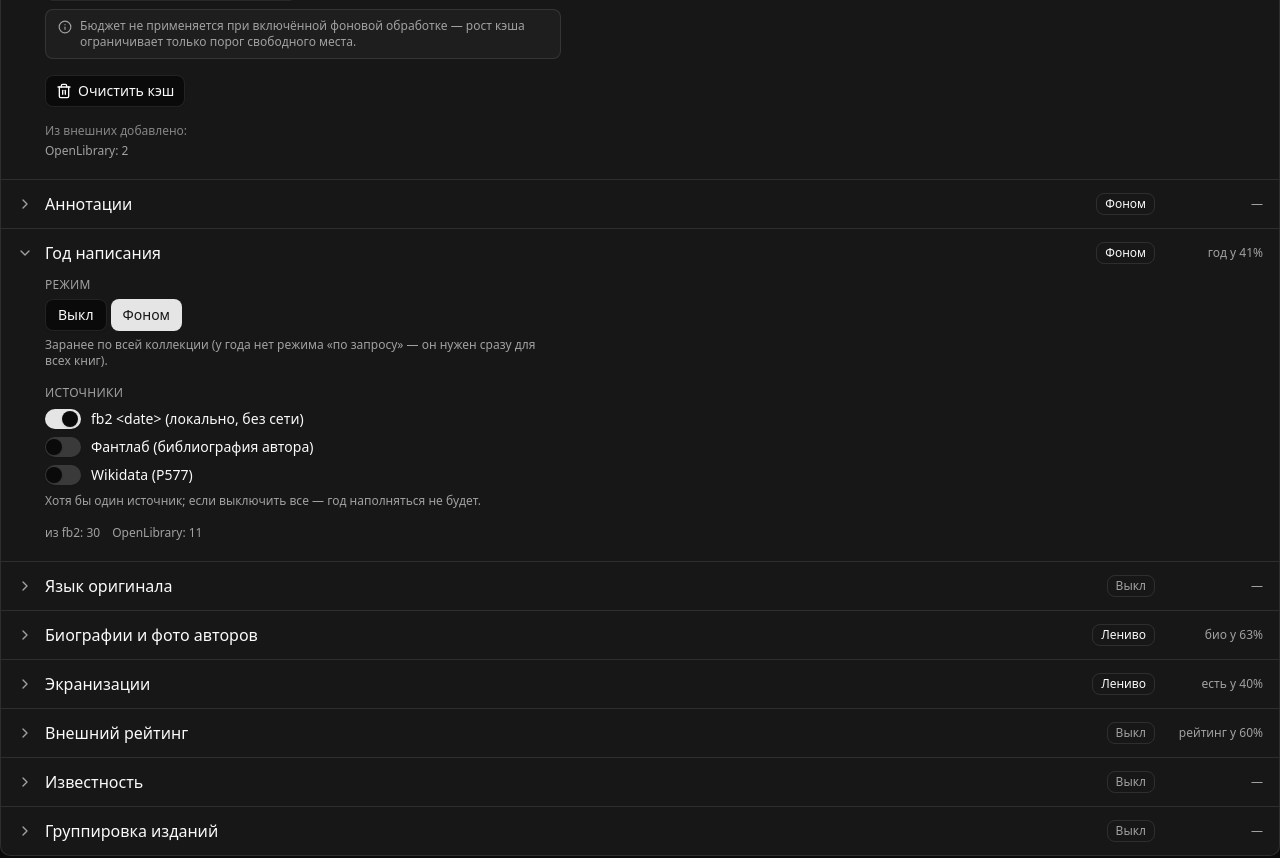
Scenario: AdminBackgroundPage (аккордеон по типам) › Фантлаб у года: тумблер включает воркер, не оживляя Wikidata при стоящем воркере; лимит и учёт (#533)
(page scrolled)
Click the switch named "Фантлаб (библиография автора)" next to "Фантлаб (библиография автора)": [63, 447] box [45, 437, 81, 457]
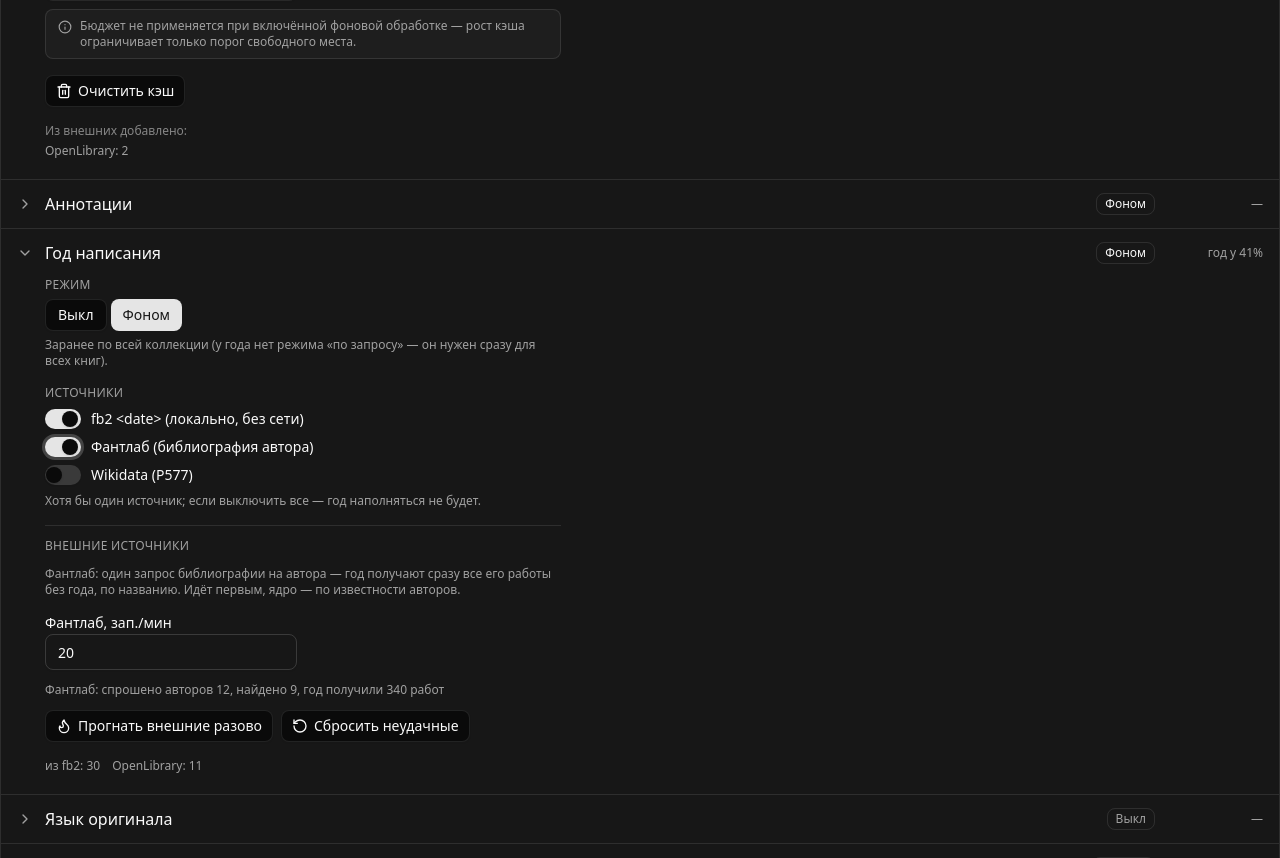
Result: the text "спрошено авторов 12, найдено 9, год получили 340 работ" is shown at [45, 681, 444, 698]
Result: the number field with id "year-fl-rpm" holds "20" at [45, 634, 297, 670]
